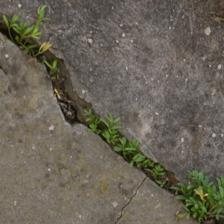Crack: (4, 17, 188, 194), (112, 178, 148, 224)
